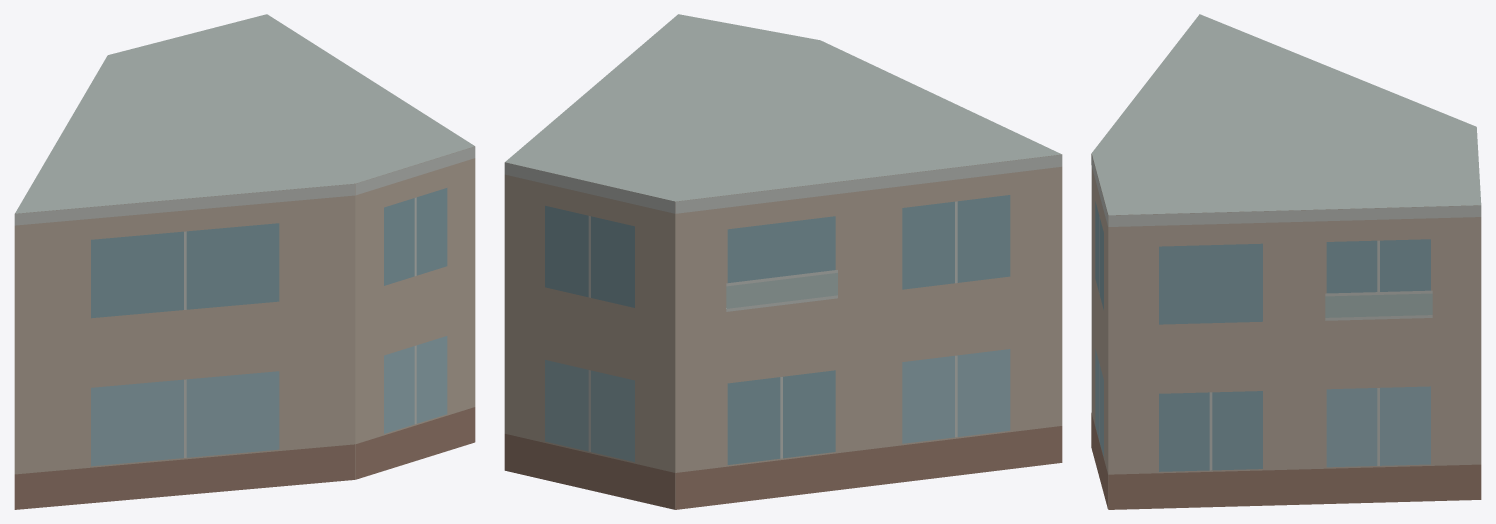
The model's file is survey-upis-33036927.glb.
3 renders of one model, left to right at view 1: azimuth 30°, elevation 25°; view 2: azimuth 150°, elevation 25°; view 3: azimuth 270°, elevation 25°, orthographic. The views are drawn at different scales.
Visible parts, largest first — view 1: survey-upis-33036927.tmp; view 2: survey-upis-33036927.tmp; view 3: survey-upis-33036927.tmp.
Part boxes in pixels (x1=…): survey-upis-33036927.tmp: x1=14, y1=14, x2=475, y2=509; survey-upis-33036927.tmp: x1=504, y1=14, x2=1062, y2=509; survey-upis-33036927.tmp: x1=1091, y1=14, x2=1481, y2=509.
Size of the model in its own units: 8.95 by 6.1 by 7.33.
